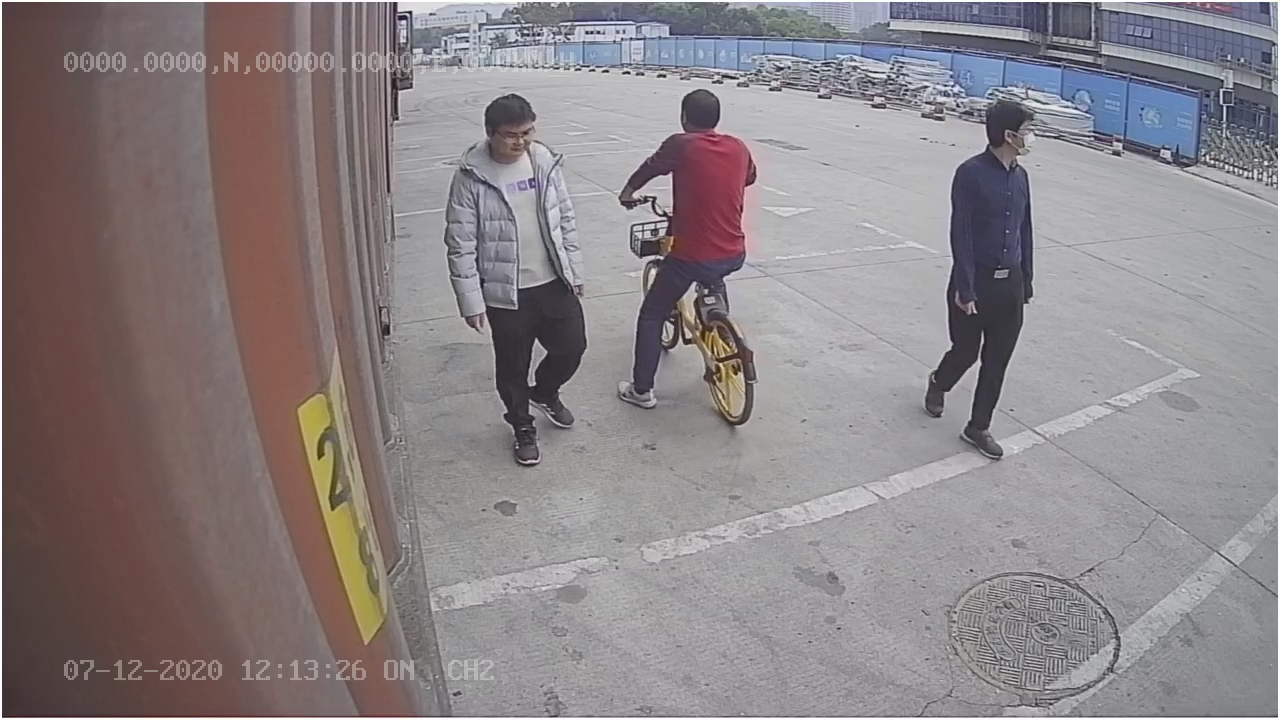person: (438, 86, 597, 464), (921, 95, 1037, 460)
